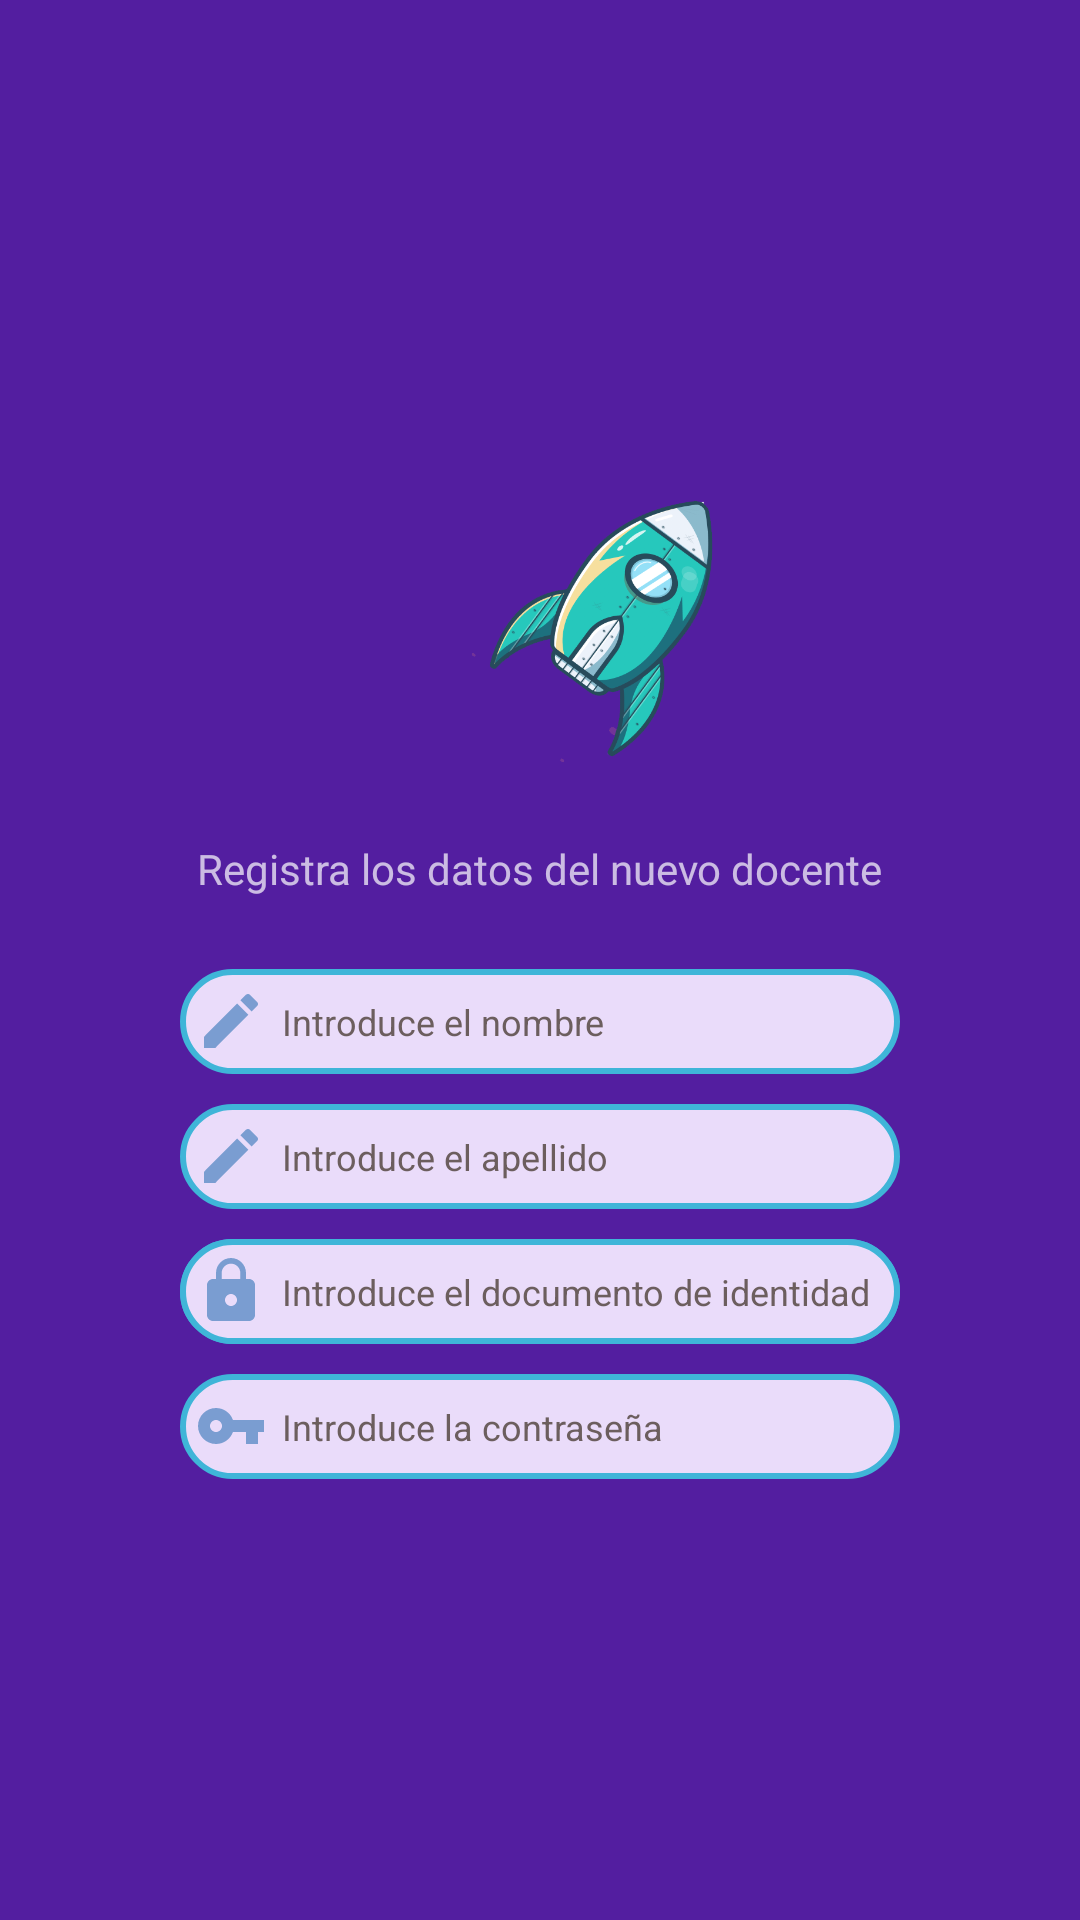

Where to tap for icons on this 1080 x 1920 app screen, as (x=x, y=y):
Imagen Cohete: (x=592, y=631)
